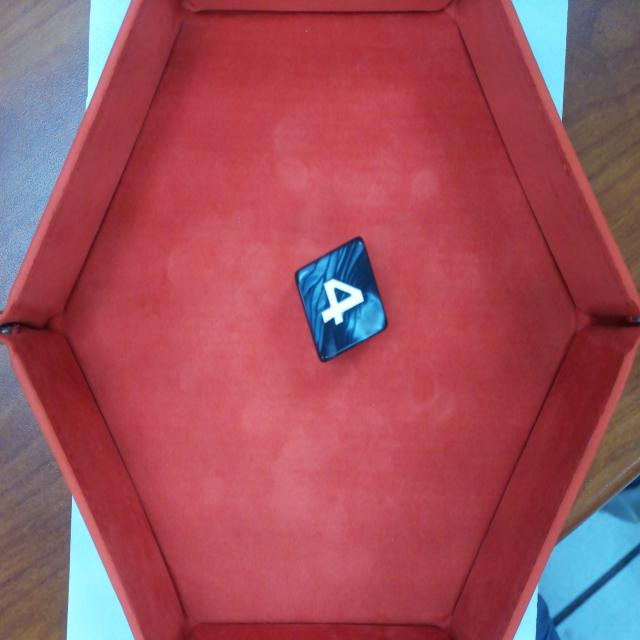dice: (292, 234, 390, 366)
